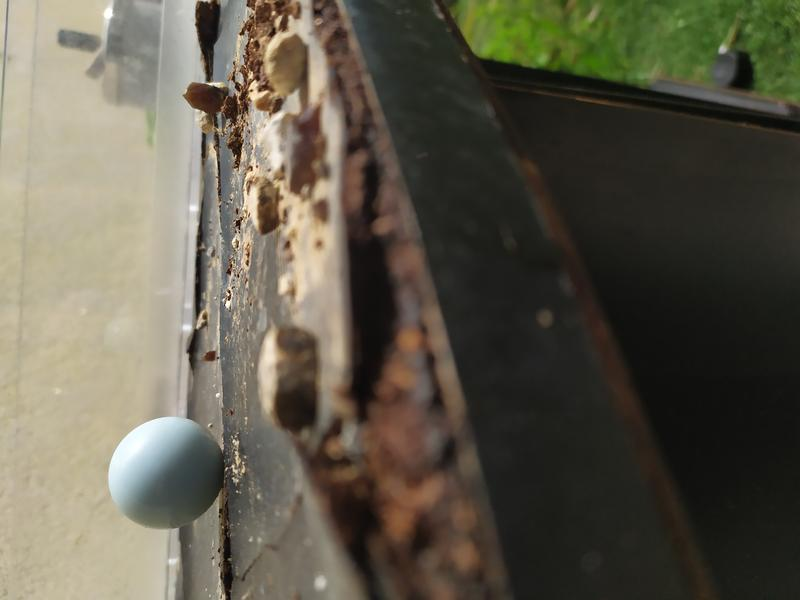Warning: (105, 414, 228, 534)
